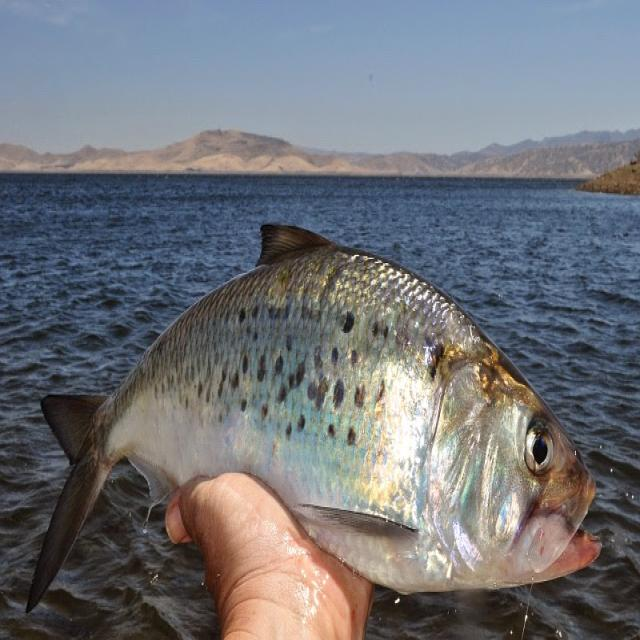Shad - American: (26, 225, 600, 609)
